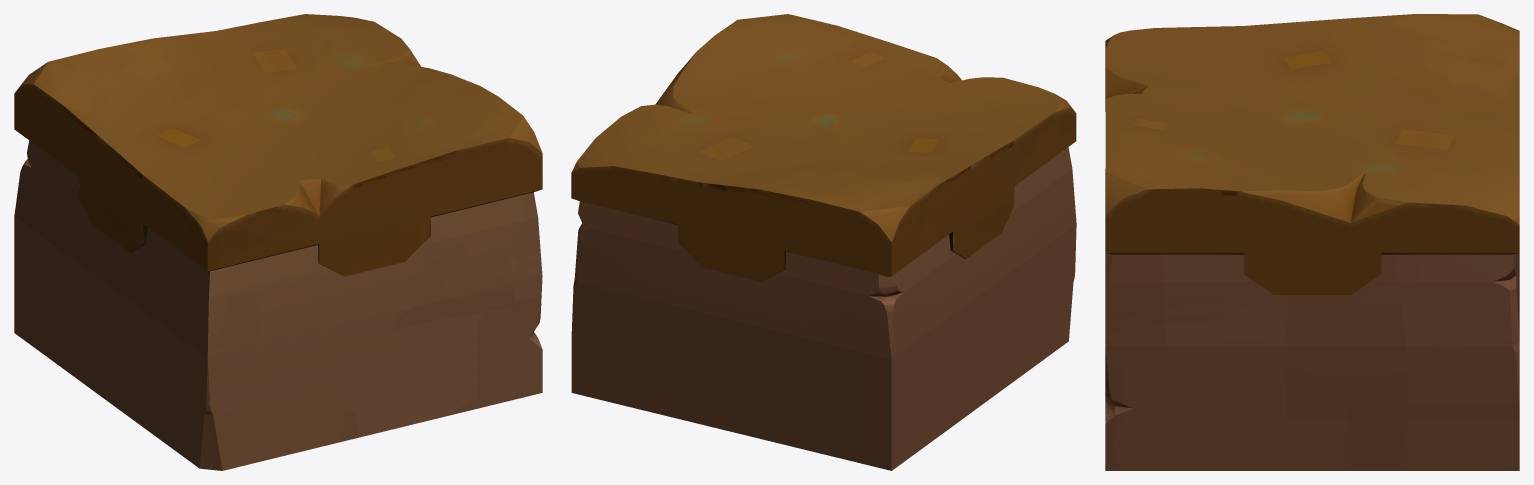
File: nitukuai.FBX
3 renders of one model, left to right at view 1: azimuth 30°, elevation 25°; view 2: azimuth 150°, elevation 25°; view 3: azimuth 270°, elevation 25°, orthographic. The views are drawn at different scales.
Parts seen in each view (by area): view 1: PBOX33_SUB_TAB_MUD_01, PBOX33_SUB_Mud_01; view 2: PBOX33_SUB_TAB_MUD_01, PBOX33_SUB_Mud_01; view 3: PBOX33_SUB_Mud_01, PBOX33_SUB_TAB_MUD_01.
Boxes of the visible parts, x1,y1,x2,y2 form: PBOX33_SUB_TAB_MUD_01: [14, 140, 542, 470]; PBOX33_SUB_Mud_01: [14, 14, 542, 276]; PBOX33_SUB_TAB_MUD_01: [571, 147, 1076, 470]; PBOX33_SUB_Mud_01: [571, 14, 1076, 281]; PBOX33_SUB_Mud_01: [1105, 14, 1519, 294]; PBOX33_SUB_TAB_MUD_01: [1105, 169, 1519, 470].
Bounding box in the file's own units: 104 × 78.16 × 104.
